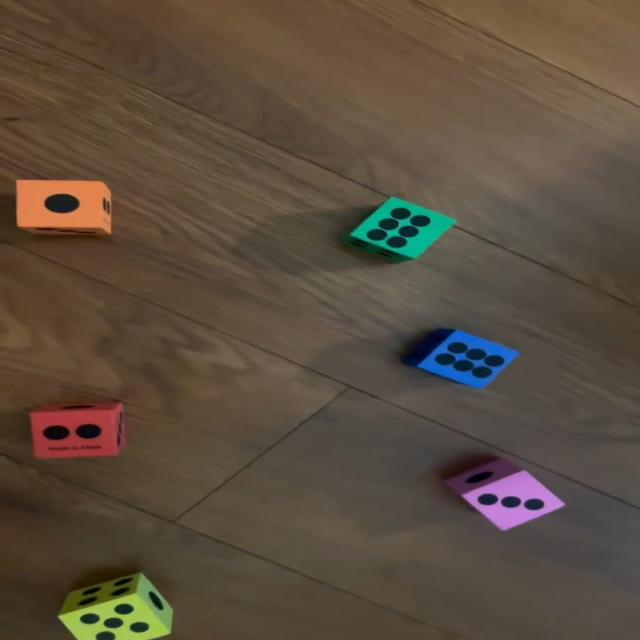blue_block: (402, 327, 519, 389)
red_block: (32, 399, 130, 459)
